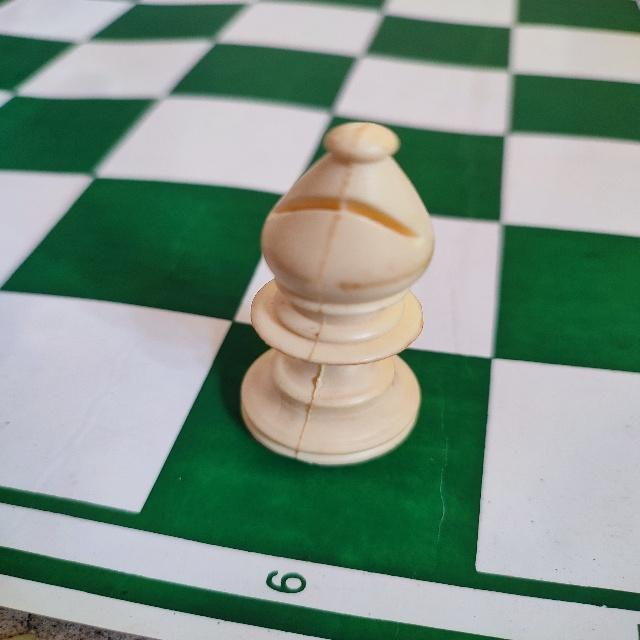Bishop: (237, 118, 426, 470)
